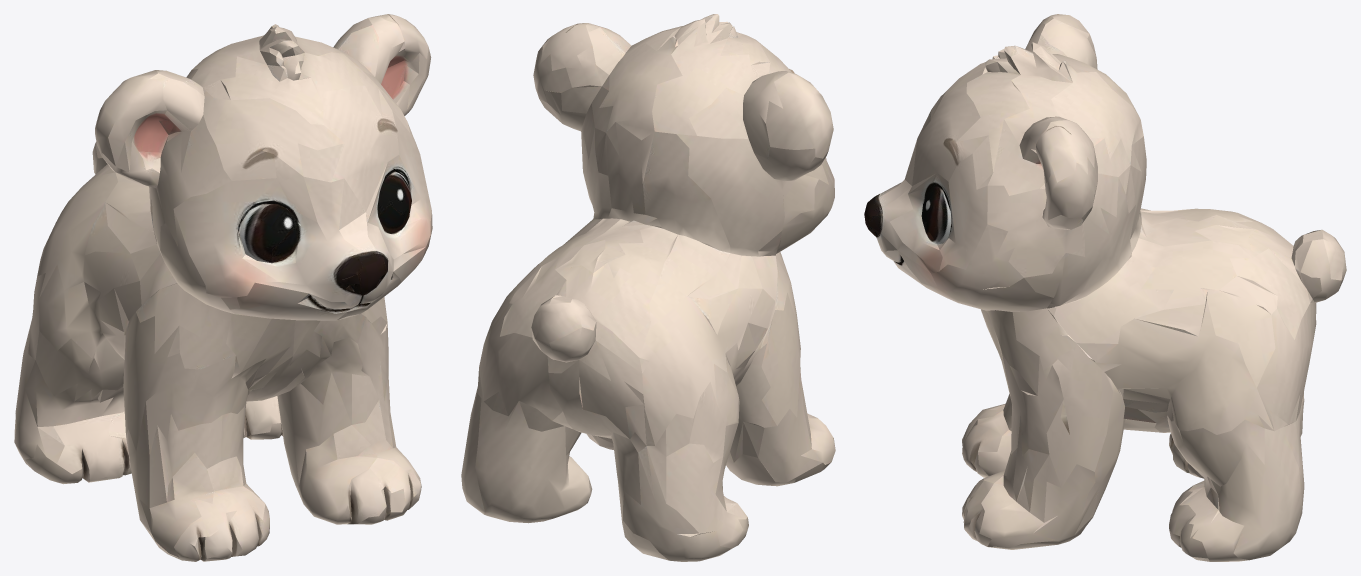
The model's file is toy-polarbear.glb.
3 views of the same model, side by side, from view 1: azimuth 30°, elevation 25°; view 2: azimuth 150°, elevation 25°; view 3: azimuth 270°, elevation 25° (orthographic). The views are drawn at different scales.
Visible parts, largest first — view 1: Prize_Batch0; view 2: Prize_Batch0; view 3: Prize_Batch0.
Boxes of the visible parts, box(x1,y1,x2,y2) form: Prize_Batch0: box(14, 14, 432, 561); Prize_Batch0: box(461, 14, 835, 561); Prize_Batch0: box(864, 14, 1346, 561).
Size of the model in its own units: 0.0234 by 0.0333 by 0.032.
1 material, 1 textured.
